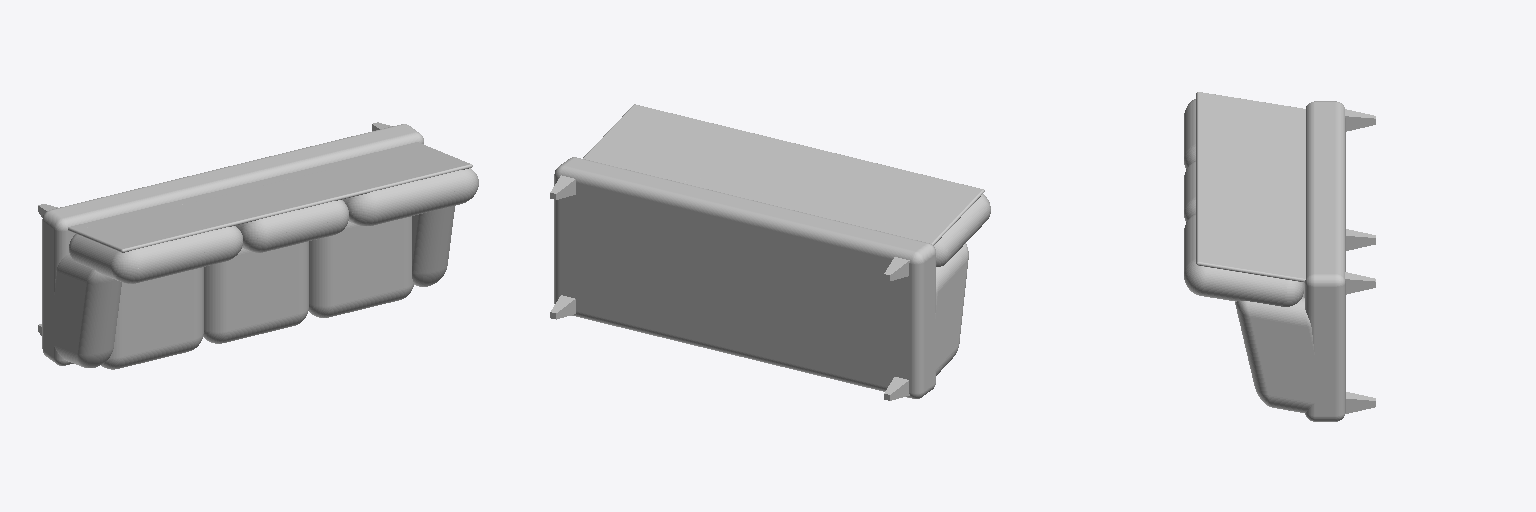
Rendered from tinker2.obj.
The picture shows the model from 3 angles: view 1: azimuth 30°, elevation 25°; view 2: azimuth 150°, elevation 25°; view 3: azimuth 270°, elevation 25°; orthographic projection.
Visible parts, largest first — view 1: obj_0; view 2: obj_0; view 3: obj_0.
Boxes of the visible parts, x1=… form: obj_0: x1=38, y1=122, x2=478, y2=369; obj_0: x1=550, y1=104, x2=990, y2=400; obj_0: x1=1184, y1=92, x2=1375, y2=421.
Size of the model in its own units: 42 by 17.22 by 18.94.